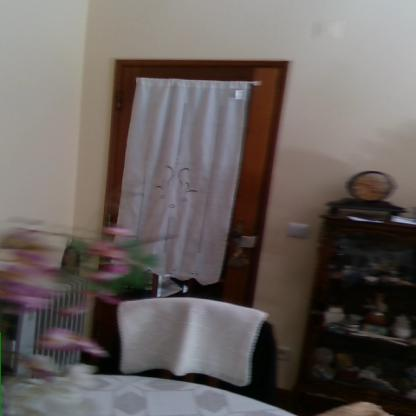closed: (90, 50, 297, 379)
